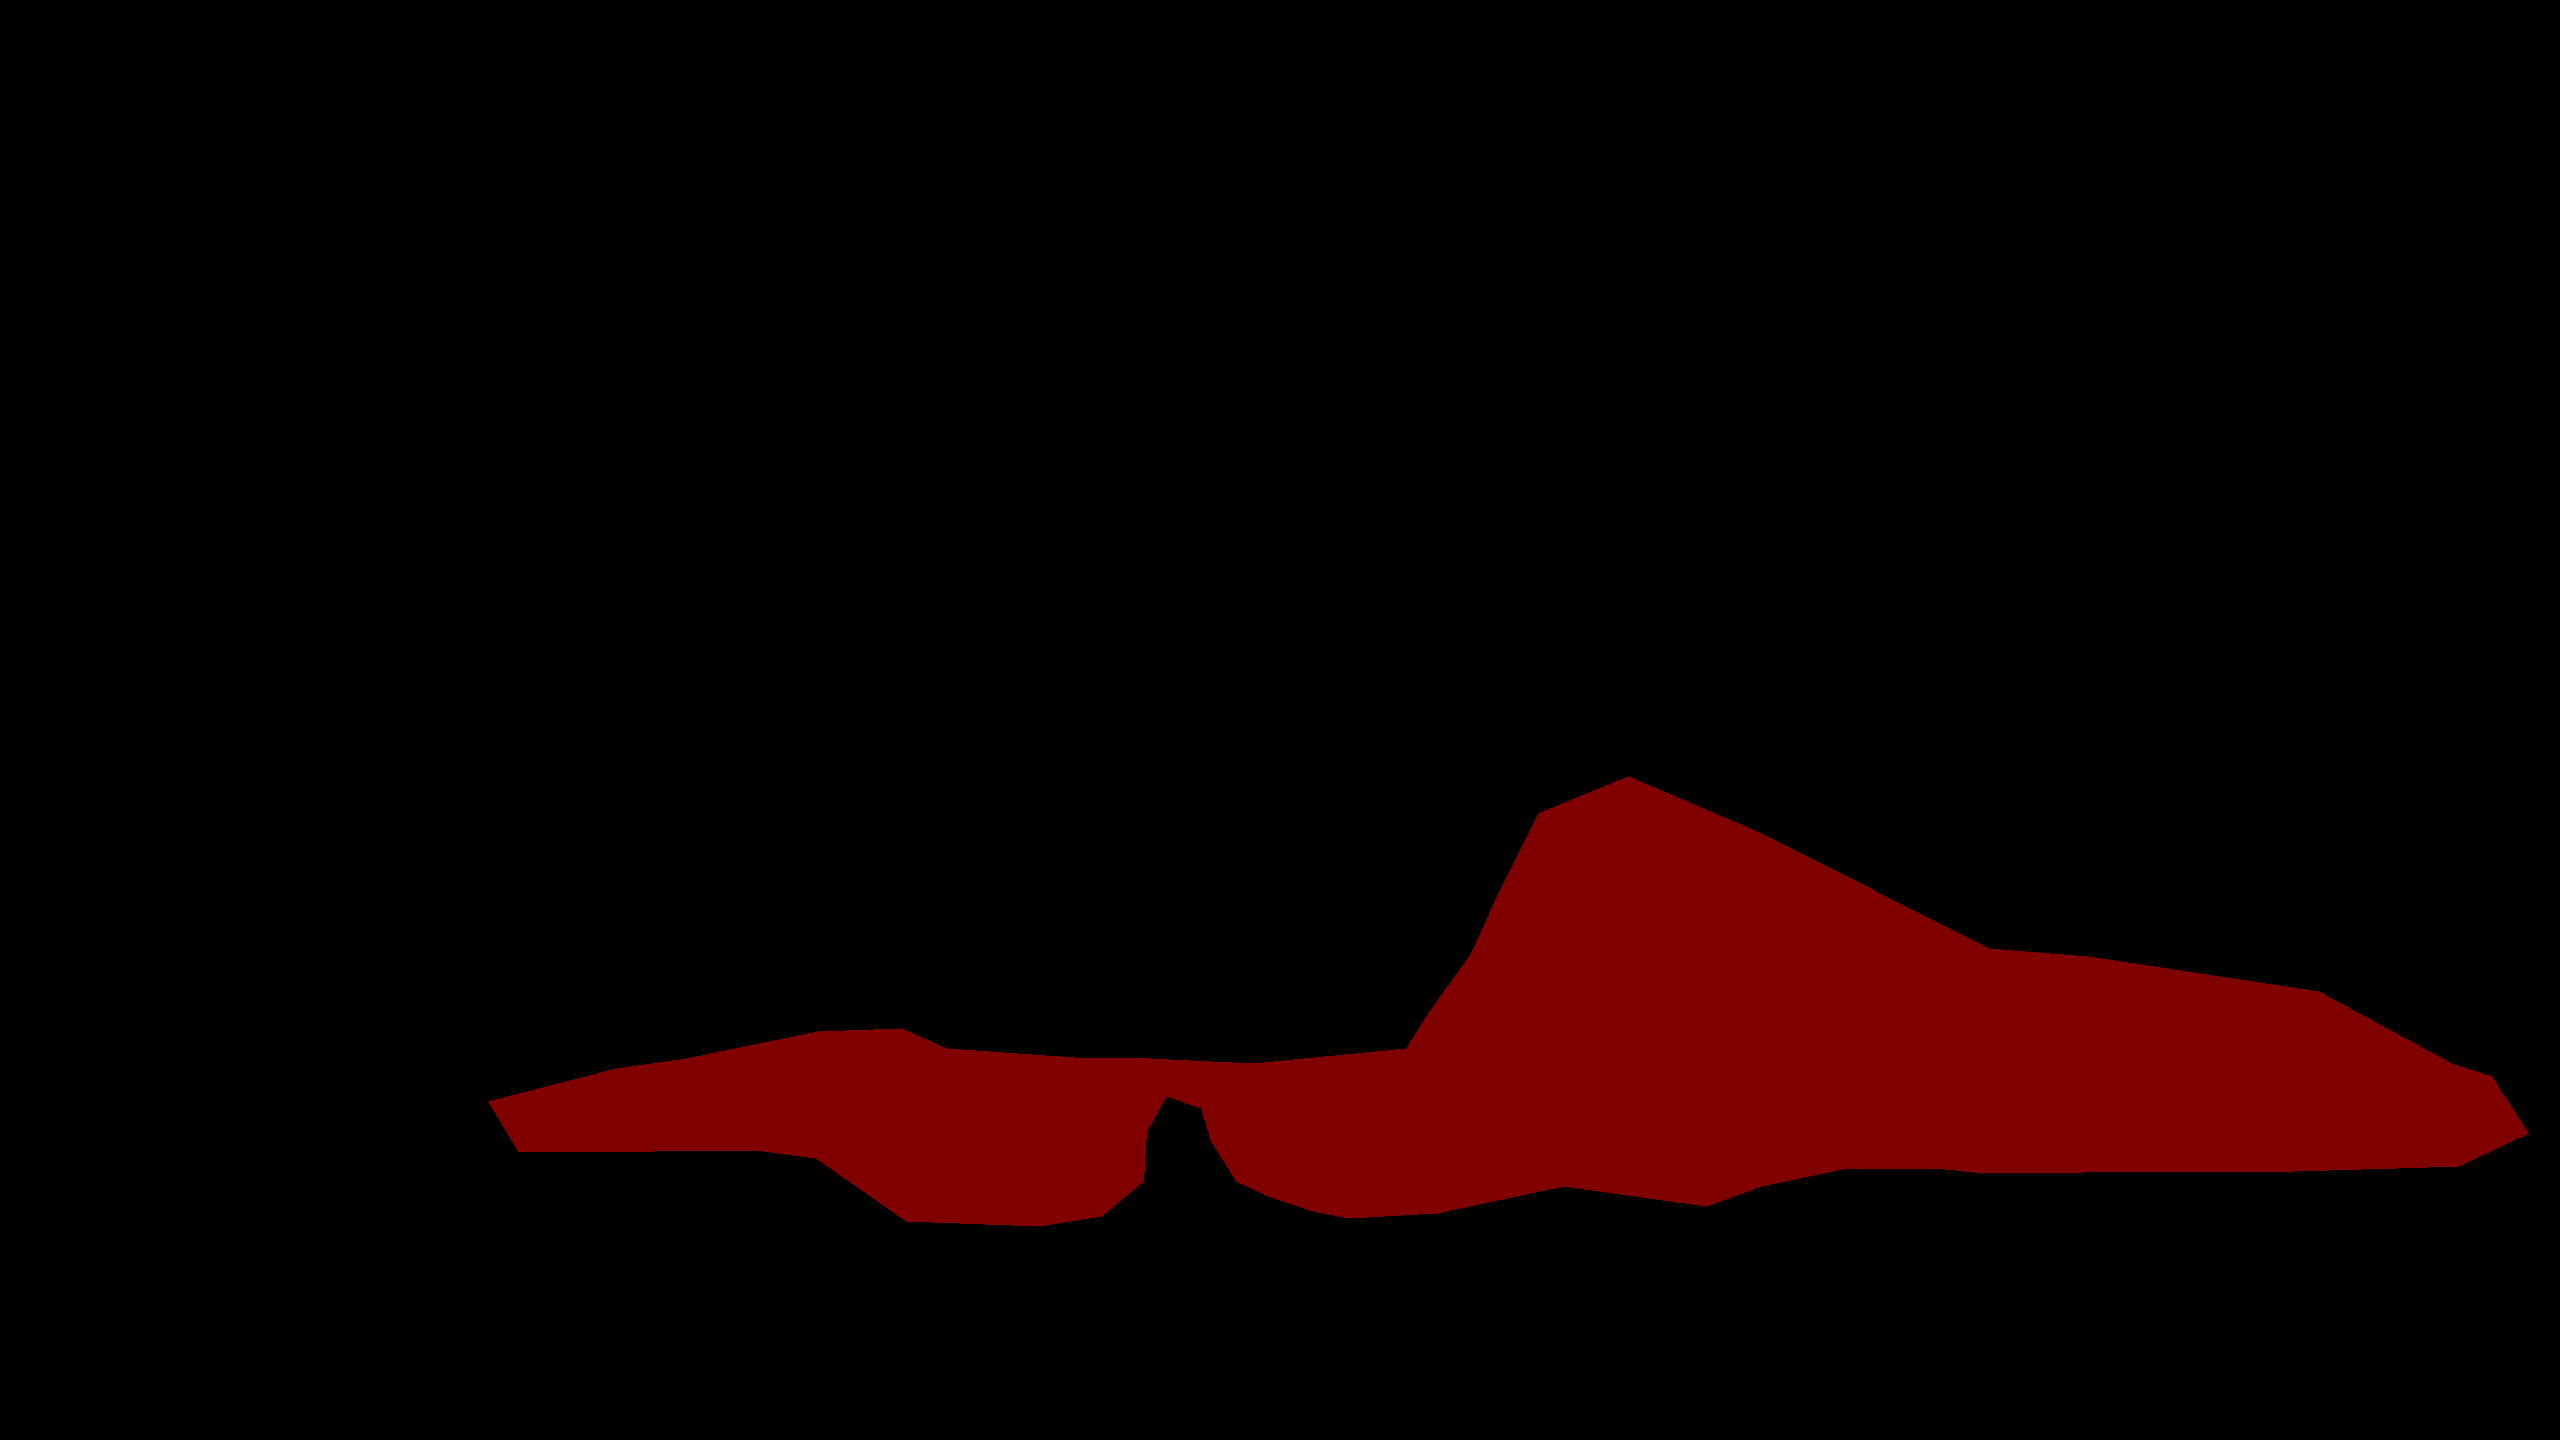fire: (489, 775, 2528, 1225)
